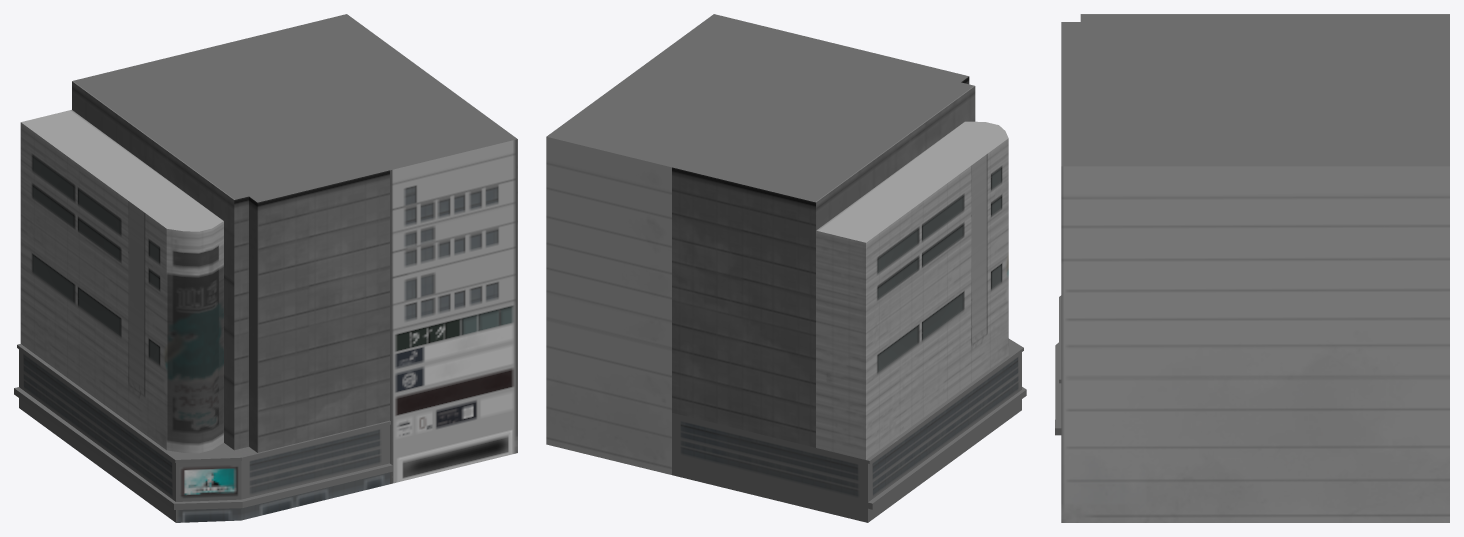
Rendered from BgMD_Monitor_01_01.fbx.
3 views of the same model, side by side, from view 1: azimuth 30°, elevation 25°; view 2: azimuth 150°, elevation 25°; view 3: azimuth 270°, elevation 25° (orthographic). The views are drawn at different scales.
Parts seen in each view (by area): view 1: pCube12; view 2: pCube12; view 3: pCube12.
Part boxes in pixels (x1=…): pCube12: x1=14, y1=14, x2=517, y2=522; pCube12: x1=546, y1=14, x2=1026, y2=522; pCube12: x1=1055, y1=14, x2=1449, y2=522.
Size of the model in its own units: 5198 by 4685 by 4701.
